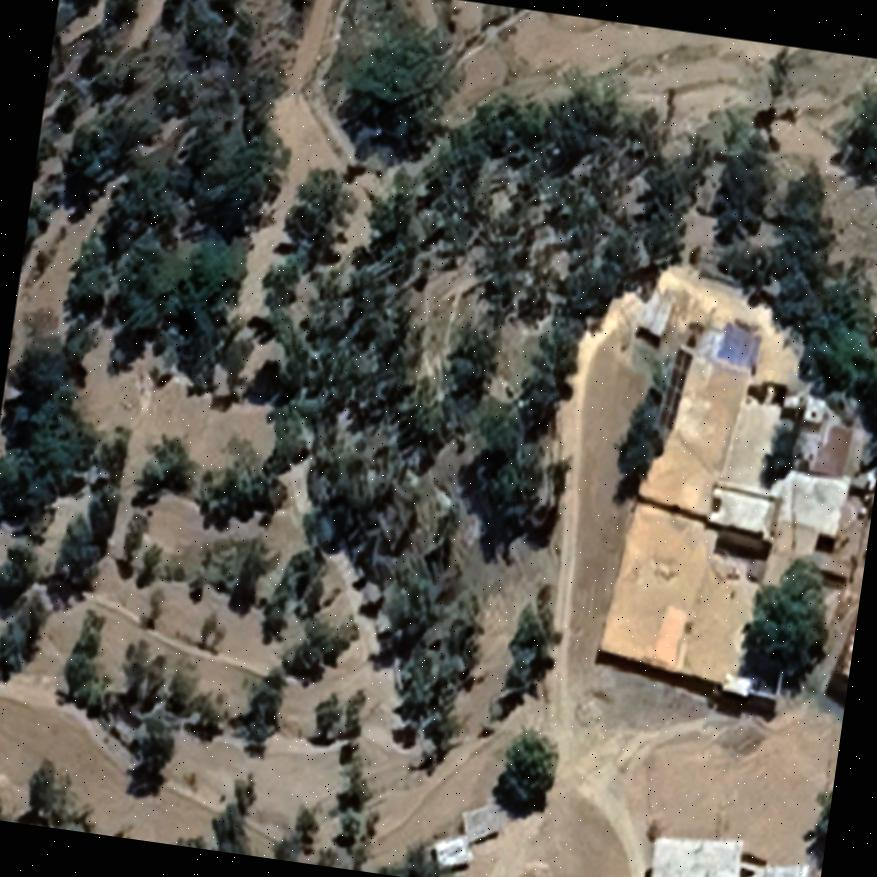Solarpanel: (649, 340, 697, 438)
